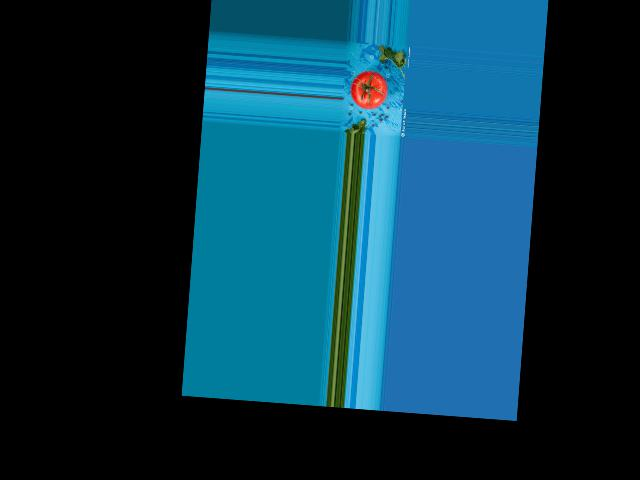tomato: (349, 69, 389, 110)
